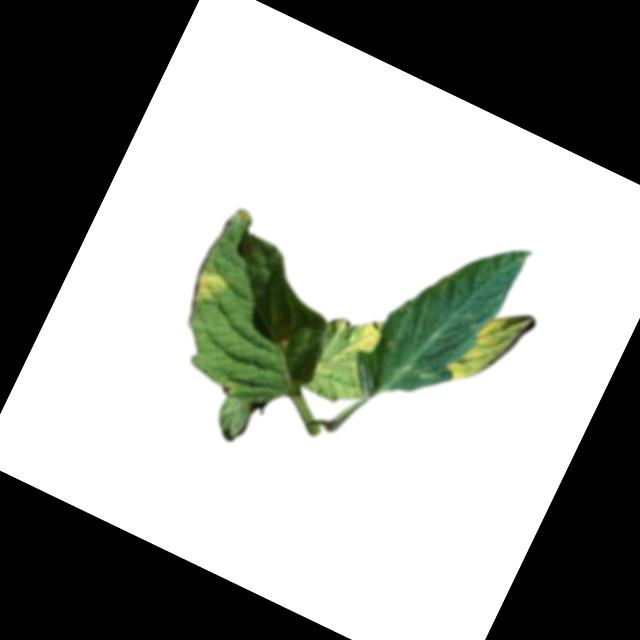Leaf_Mold: (446, 295, 536, 402), (326, 302, 386, 357), (184, 263, 231, 311)
